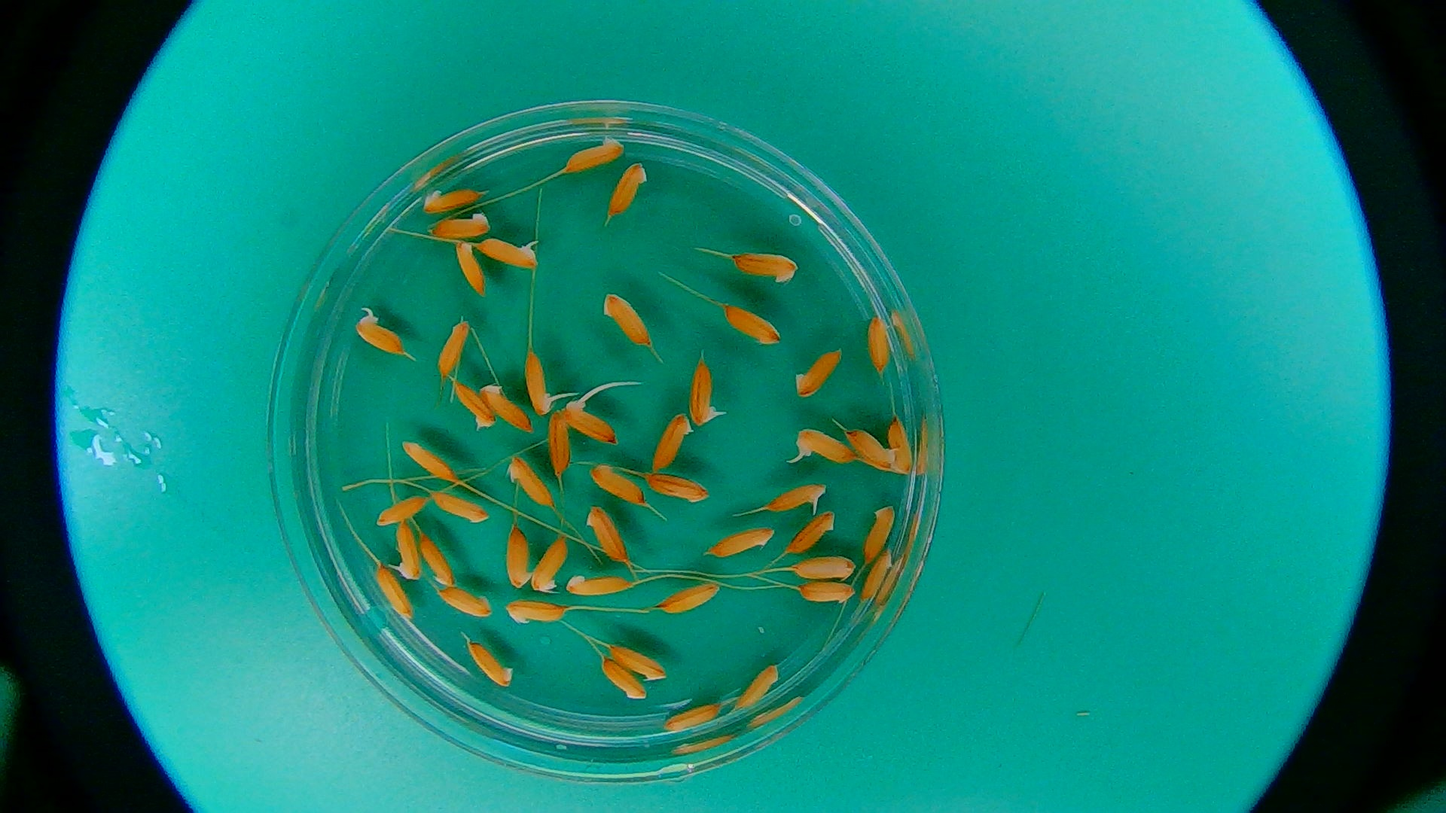no: (503, 452, 559, 511), (474, 384, 538, 432), (792, 347, 847, 398), (600, 293, 653, 345), (401, 437, 459, 484), (586, 507, 632, 564), (723, 303, 781, 346), (606, 642, 668, 682), (651, 412, 693, 470), (561, 134, 624, 172), (375, 564, 417, 620), (607, 161, 649, 214), (732, 251, 798, 284), (467, 641, 514, 687), (786, 510, 836, 553), (589, 466, 645, 504), (600, 655, 645, 700), (735, 664, 780, 709), (848, 426, 897, 467), (657, 582, 719, 614), (648, 473, 712, 504), (452, 239, 486, 296), (419, 534, 456, 586), (453, 382, 493, 430), (711, 526, 775, 556), (430, 209, 491, 239), (532, 537, 565, 592), (432, 492, 489, 523), (863, 504, 893, 562), (503, 599, 566, 626), (436, 321, 468, 374), (792, 554, 856, 580), (436, 587, 491, 617), (375, 496, 426, 527), (505, 526, 530, 589), (423, 187, 478, 214), (867, 316, 893, 373), (888, 419, 915, 473), (564, 573, 630, 595), (549, 414, 572, 477), (663, 704, 719, 729), (864, 550, 890, 603), (798, 581, 857, 604)
yes: (557, 399, 616, 445), (353, 316, 407, 357), (794, 428, 851, 466), (478, 235, 541, 269), (689, 361, 719, 427), (767, 481, 825, 514), (525, 351, 555, 414), (391, 520, 422, 580)
